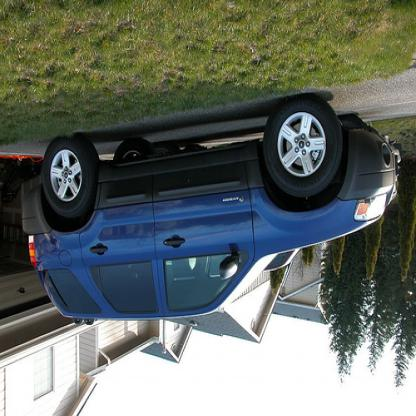car: (21, 94, 404, 323)
